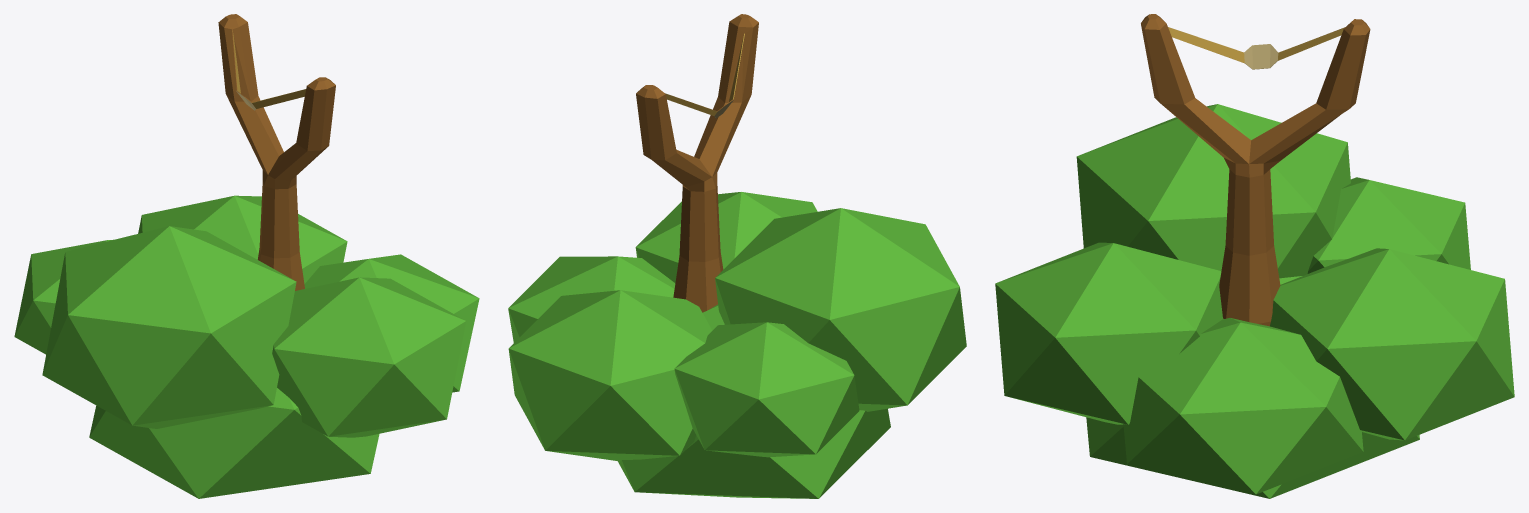
Rendered from SM_JungleScout.fbx.
3 renders of one model, left to right at view 1: azimuth 30°, elevation 25°; view 2: azimuth 150°, elevation 25°; view 3: azimuth 270°, elevation 25°, orthographic. The views are drawn at different scales.
Parts seen in each view (by area): view 1: Cube; view 2: Cube; view 3: Cube.
Part boxes in pixels (bbox=[...]): Cube: bbox=[14, 14, 479, 498]; Cube: bbox=[508, 14, 966, 498]; Cube: bbox=[995, 14, 1514, 498].
Bounding box in the file's own units: 6.56 × 6.31 × 6.57.
